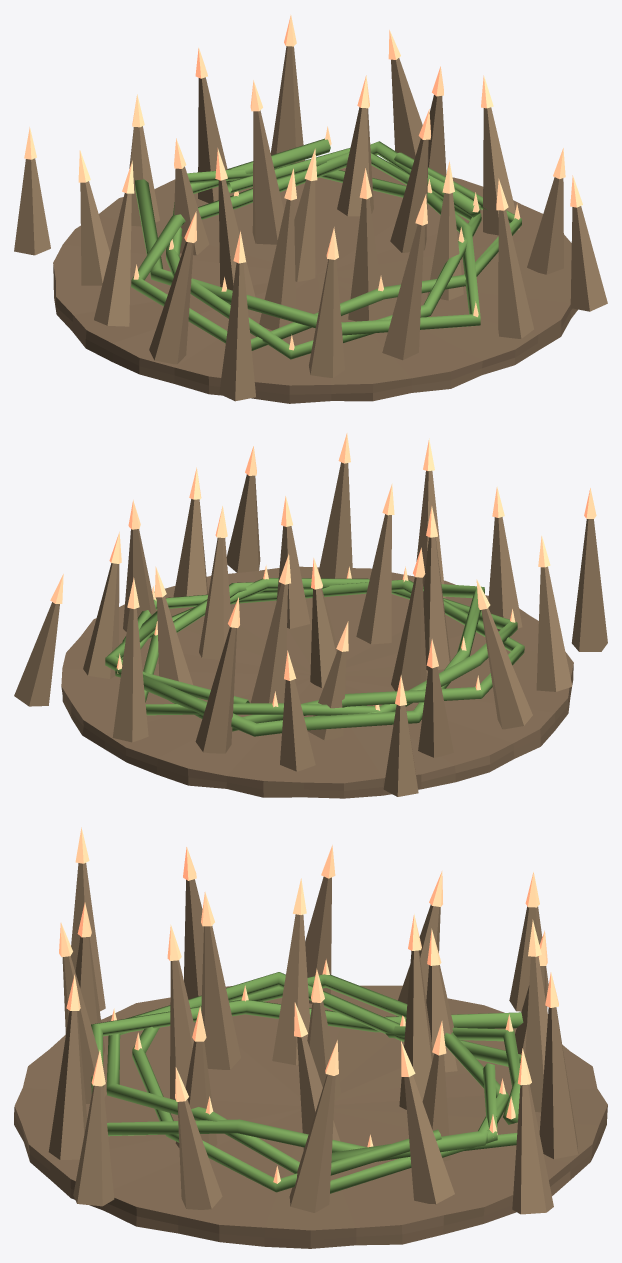
File: thorns.glb
The picture shows the model from 3 angles, top to bottom: view 1: azimuth 30°, elevation 25°; view 2: azimuth 150°, elevation 25°; view 3: azimuth 270°, elevation 25°; orthographic projection. The views are drawn at different scales.
Visible parts, largest first — view 1: Cylinder; view 2: Cylinder; view 3: Cylinder.
Part boxes in pixels (<box>): Cylinder: <box>14,15,607,403</box>; Cylinder: <box>14,433,607,798</box>; Cylinder: <box>14,827,607,1248</box>.
Bounding box in the file's own units: 3.52 × 1.32 × 3.51.
